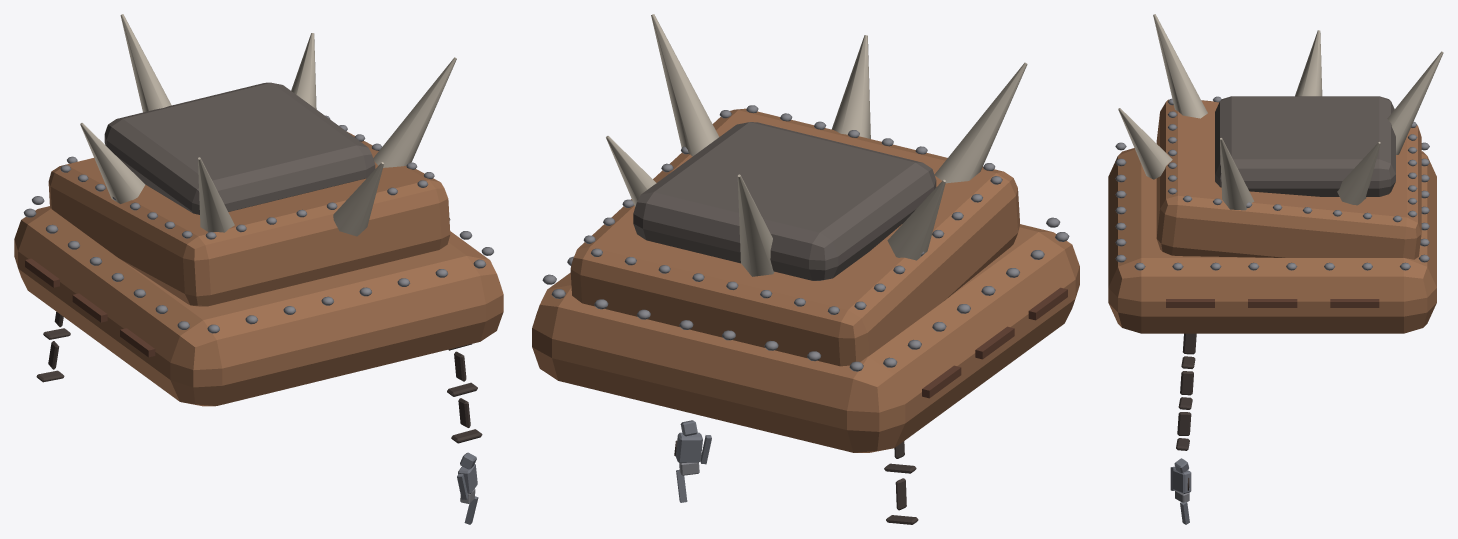
File: gleaner_pauldron.glb
3 views of the same model, side by side, from view 1: azimuth 30°, elevation 25°; view 2: azimuth 150°, elevation 25°; view 3: azimuth 270°, elevation 25° (orthographic). The views are drawn at different scales.
Visible parts, largest first — view 1: gl_rust, gl_rust.001, gl_iron, gl_bone, gl_bone.003, gl_bone.004, gl_bone.001, gl_bone.002, gl_bone.005; view 2: gl_rust, gl_rust.001, gl_iron, gl_bone, gl_bone.002, gl_bone.004, gl_bone.001, gl_bone.003, gl_bone.005, gl_unit; view 3: gl_rust, gl_rust.001, gl_iron, gl_bone.002, gl_bone.004, gl_bone.001, gl_bone, gl_bone.005, gl_bone.003, gl_ember.001, gl_ember.003, gl_ember.005 (+1 smaller).
Part boxes in pixels (box(x1,y1,x2,y2)): gl_rust: box(14, 206, 503, 406); gl_rust.001: box(48, 131, 450, 306); gl_iron: box(104, 82, 375, 214); gl_bone: box(373, 57, 456, 167); gl_bone.003: box(80, 123, 145, 203); gl_bone.004: box(120, 14, 171, 112); gl_bone.001: box(333, 162, 383, 236); gl_bone.002: box(198, 157, 234, 232); gl_bone.005: box(291, 33, 316, 109); gl_rust: box(532, 224, 1079, 452); gl_rust.001: box(570, 108, 1020, 366); gl_iron: box(633, 122, 936, 280); gl_bone: box(651, 14, 718, 156); gl_bone.002: box(934, 62, 1027, 183); gl_bone.004: box(737, 174, 774, 276); gl_bone.001: box(831, 35, 870, 138); gl_bone.003: box(887, 179, 945, 260); gl_bone.005: box(606, 136, 656, 206); gl_unit: box(675, 432, 702, 462); gl_rust: box(1108, 148, 1436, 333); gl_rust.001: box(1156, 99, 1421, 259); gl_iron: box(1215, 96, 1395, 196); gl_bone.002: box(1153, 14, 1207, 118); gl_bone.004: box(1387, 51, 1443, 154); gl_bone.001: box(1118, 108, 1172, 179); gl_bone: box(1220, 138, 1254, 210); gl_bone.005: box(1337, 142, 1380, 205); gl_bone.003: box(1295, 30, 1322, 96); gl_ember.001: box(1330, 299, 1379, 307); gl_ember.003: box(1248, 299, 1297, 307); gl_ember.005: box(1166, 299, 1214, 307).
Bounding box in the file's own units: 41.8 × 52.16 × 40.81.
